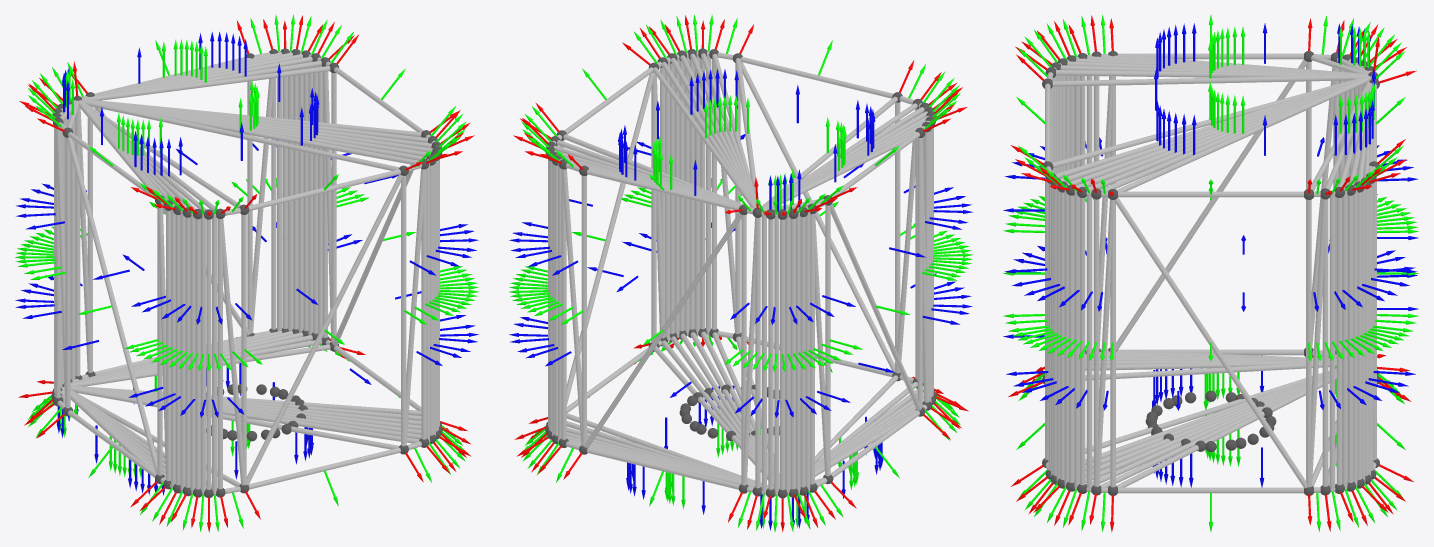
Rendered from onshape_simple_shape.gltf.
The picture shows the model from 3 angles, left to right: view 1: azimuth 30°, elevation 25°; view 2: azimuth 150°, elevation 25°; view 3: azimuth 270°, elevation 25°; orthographic projection. The views are drawn at different scales.
Bounding box in the file's own units: 0.7374 × 0.7373 × 0.7373.
